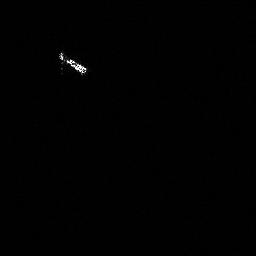ship: (56, 49, 89, 78)
